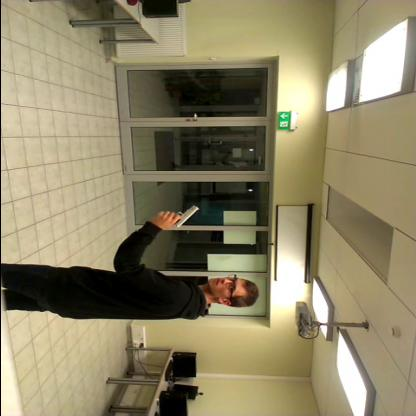Pistol: (152, 198, 204, 230)
